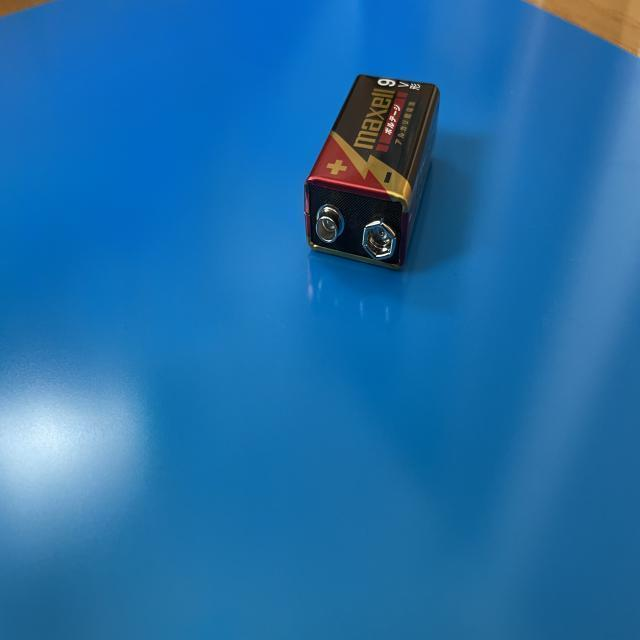9V: (303, 74, 441, 271)
